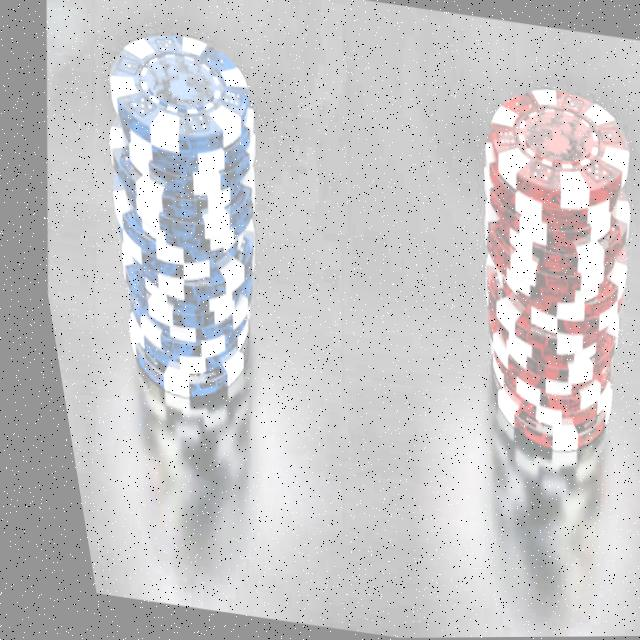Chip: (44, 14, 309, 423), (415, 77, 640, 477)
